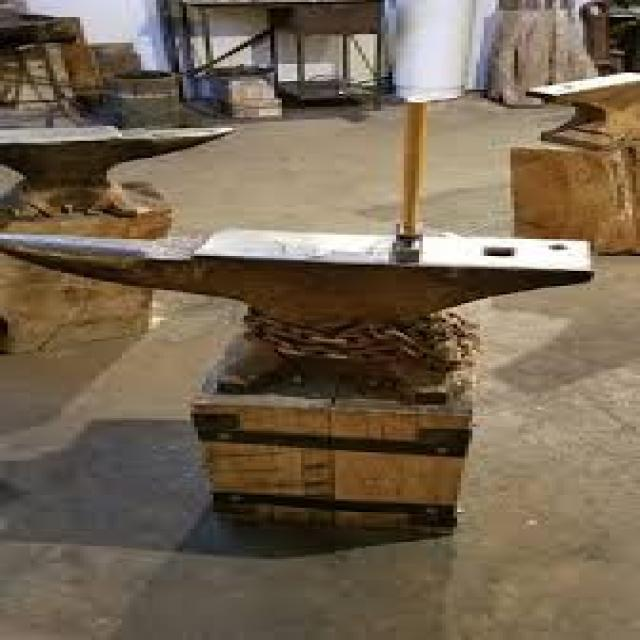hammer: (374, 90, 449, 268)
